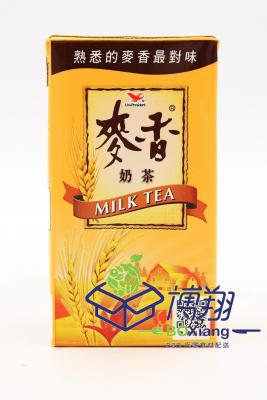milk tea: (48, 35, 219, 344)
